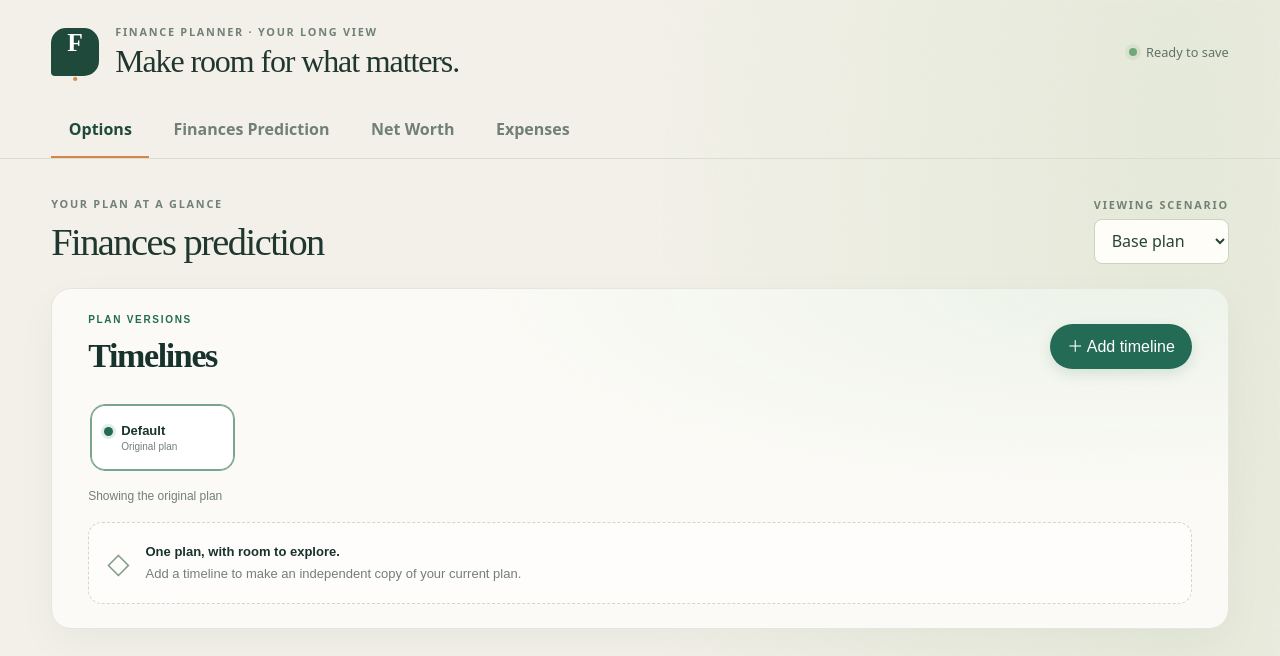
App integration (Phase 5 GUI acceptance) › mounts the housing editor with its canonical property and debt section
What coordinates should you click on to do the following:
click the button "Finances Prediction"
I would click on:
 (251, 131)
Its box is [156,104,347,158].
(page scrolled)
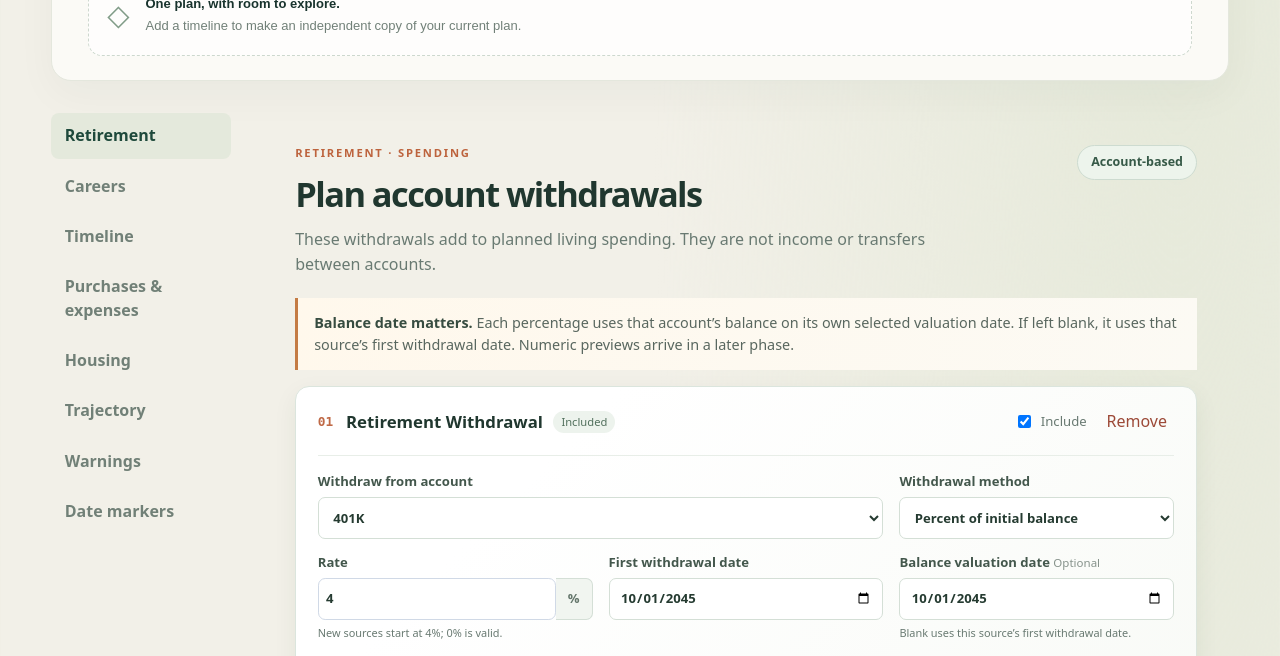
What coordinates should you click on to do the following:
click the button "Housing"
I would click on:
 (141, 360)
Its box is [51,338,231,383].
(page scrolled)
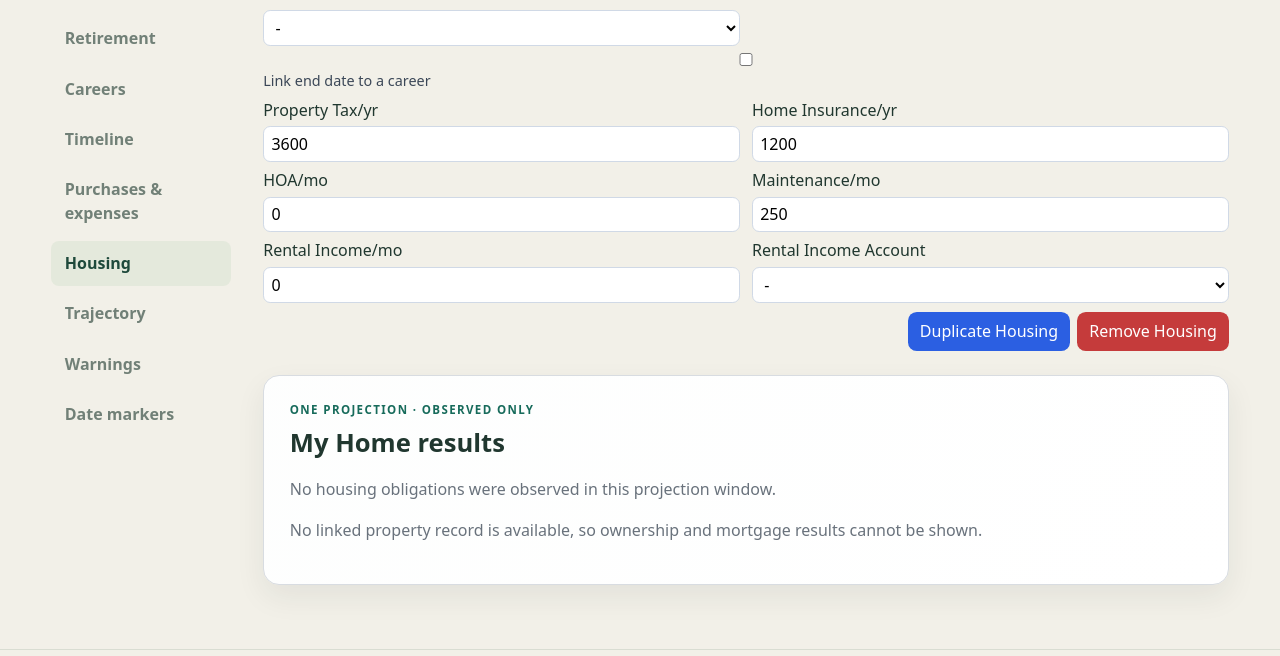
Now the element "results" is shown, box [263,375,1229,585]
